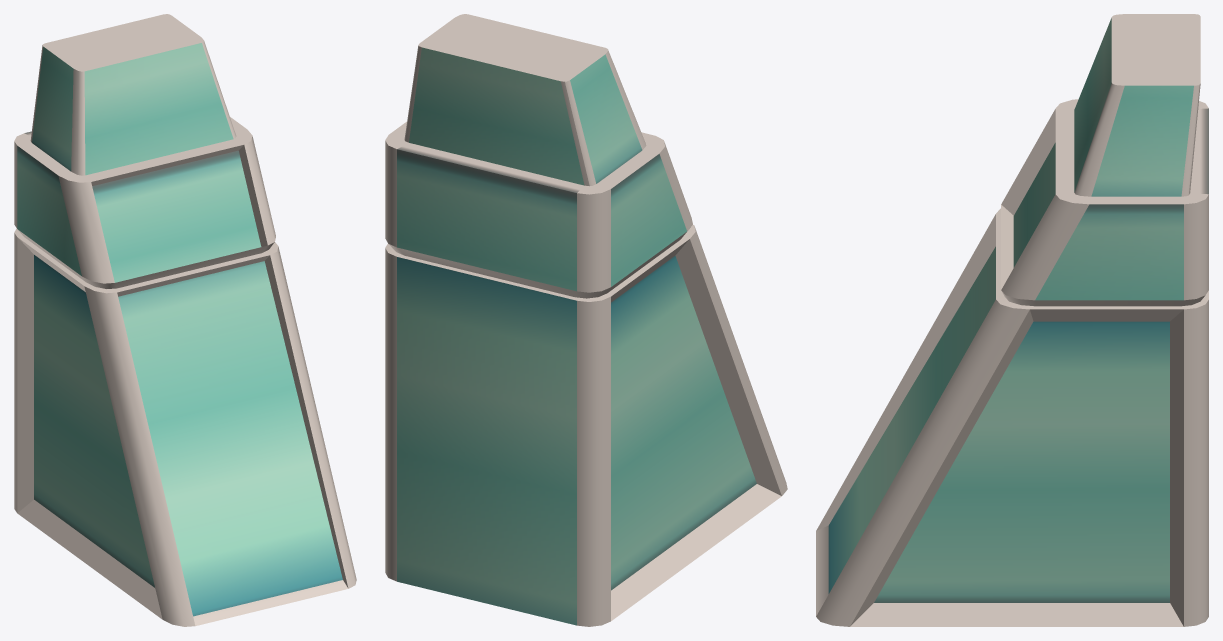
Rendered from Tall_B_6.fbx.
3 renders of one model, left to right at view 1: azimuth 30°, elevation 25°; view 2: azimuth 150°, elevation 25°; view 3: azimuth 270°, elevation 25°, orthographic. The views are drawn at different scales.
Visible parts, largest first — view 1: Tall_B_6; view 2: Tall_B_6; view 3: Tall_B_6.
Boxes of the visible parts, bbox=[...] form: Tall_B_6: bbox=[14, 14, 356, 626]; Tall_B_6: bbox=[385, 14, 787, 626]; Tall_B_6: bbox=[816, 14, 1208, 626].
Bounding box in the file's own units: 5058 × 11659 × 7923.
